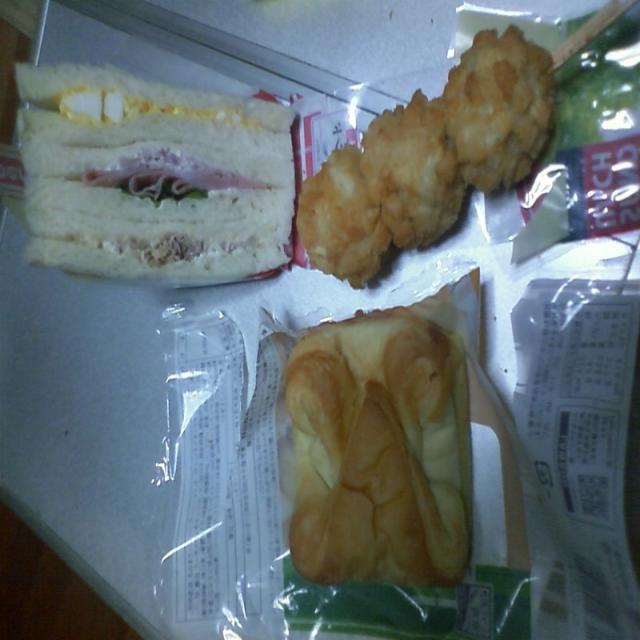三明治: (24, 38, 297, 294)
